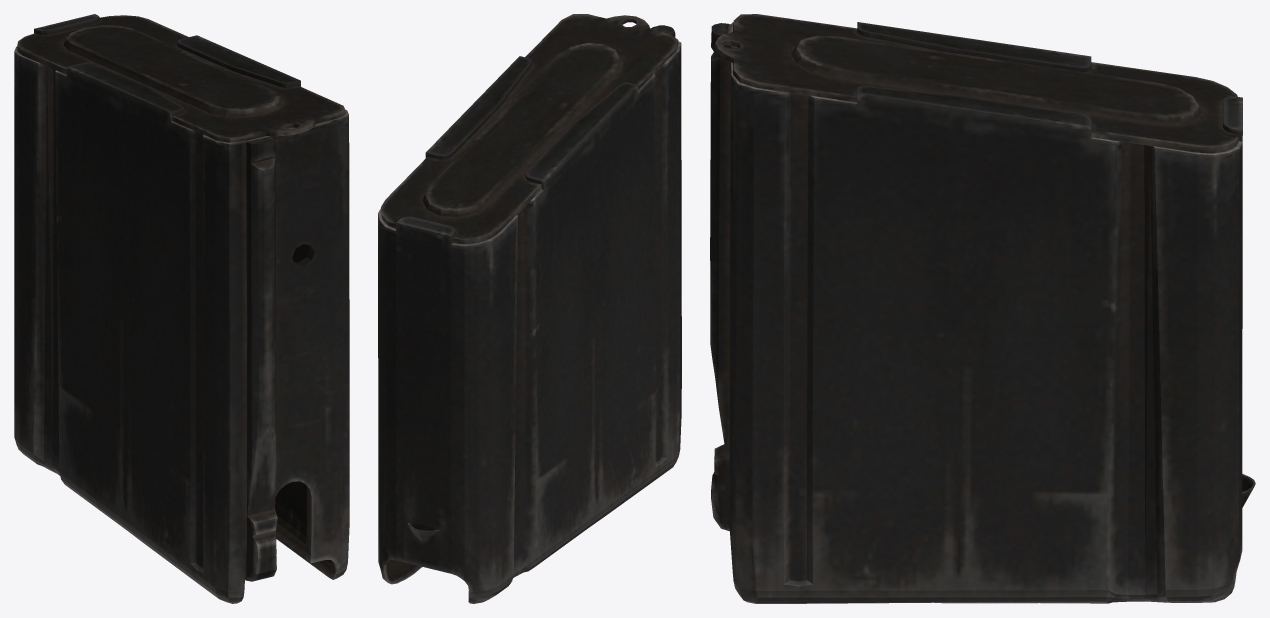
The picture shows the model from 3 angles, left to right: view 1: azimuth 30°, elevation 25°; view 2: azimuth 150°, elevation 25°; view 3: azimuth 270°, elevation 25°; orthographic projection. The views are drawn at different scales.
Visible parts, largest first — view 1: TW_5b7bef1e5acfc43d82528402_PZ_Import; view 2: TW_5b7bef1e5acfc43d82528402_PZ_Import; view 3: TW_5b7bef1e5acfc43d82528402_PZ_Import.
Boxes of the visible parts, x1,y1,x2,y2 form: TW_5b7bef1e5acfc43d82528402_PZ_Import: (14, 14, 349, 603); TW_5b7bef1e5acfc43d82528402_PZ_Import: (378, 14, 681, 603); TW_5b7bef1e5acfc43d82528402_PZ_Import: (710, 14, 1255, 603).
Bounding box in the file's own units: 0.0148 × 0.0478 × 0.0516.
Materials: 1 (1 with a texture image).
